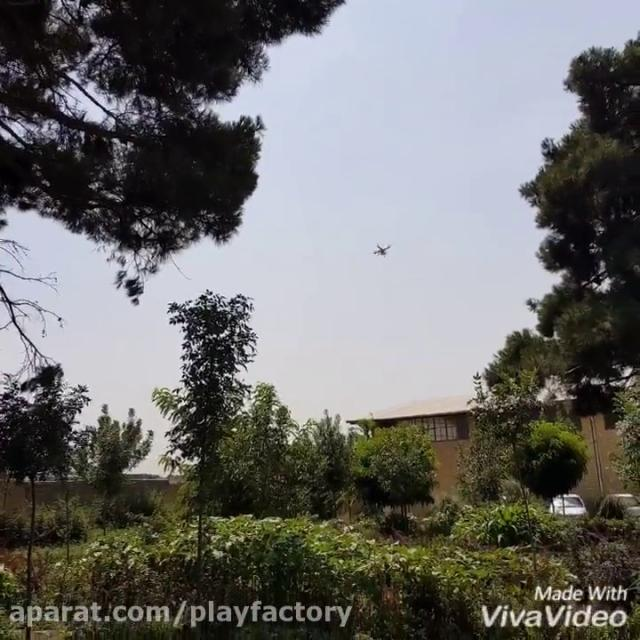drone: (371, 239, 393, 259)
